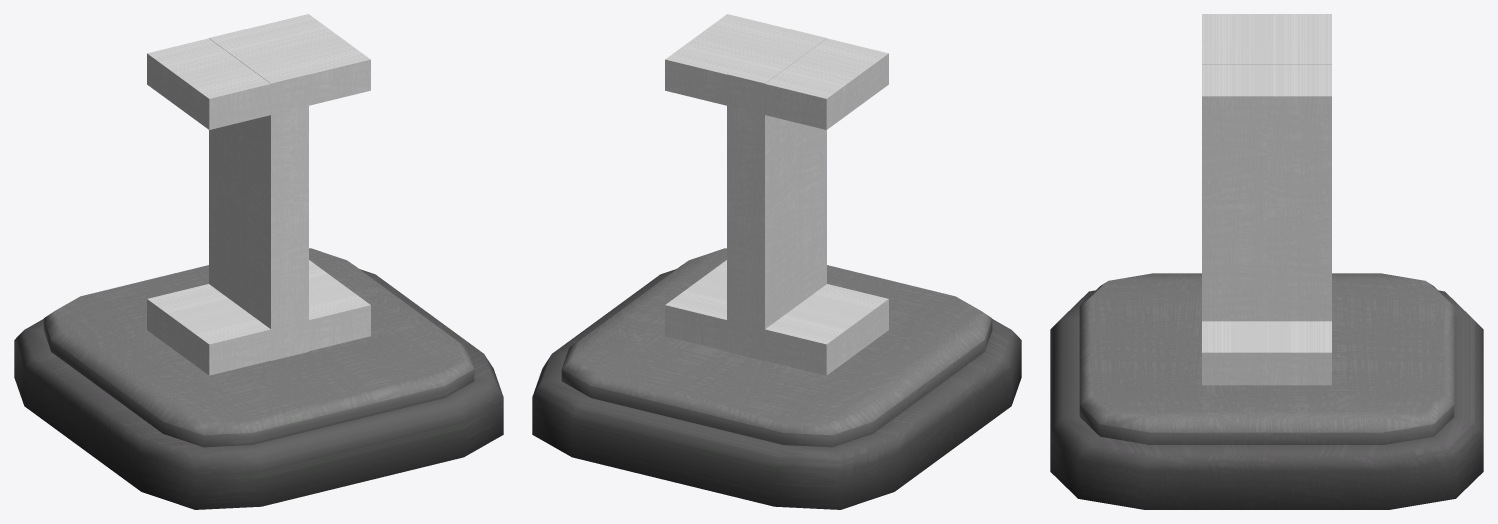
Rendered from Statue Letter I Hand.fbx.
The picture shows the model from 3 angles, left to right: view 1: azimuth 30°, elevation 25°; view 2: azimuth 150°, elevation 25°; view 3: azimuth 270°, elevation 25°; orthographic projection. The views are drawn at different scales.
Visible parts, largest first — view 1: StatueBase (1), Letter; view 2: StatueBase (1), Letter; view 3: StatueBase (1), Letter.
Boxes of the visible parts, x1=… form: StatueBase (1): x1=14, y1=248, x2=503, y2=509; Letter: x1=147, y1=14, x2=370, y2=375; StatueBase (1): x1=532, y1=248, x2=1021, y2=509; Letter: x1=665, y1=14, x2=888, y2=375; StatueBase (1): x1=1050, y1=273, x2=1483, y2=509; Letter: x1=1202, y1=14, x2=1331, y2=385.
Bounding box in the file's own units: 0.9118 × 0.8657 × 0.9299.
Materials: 2 (2 with a texture image).
